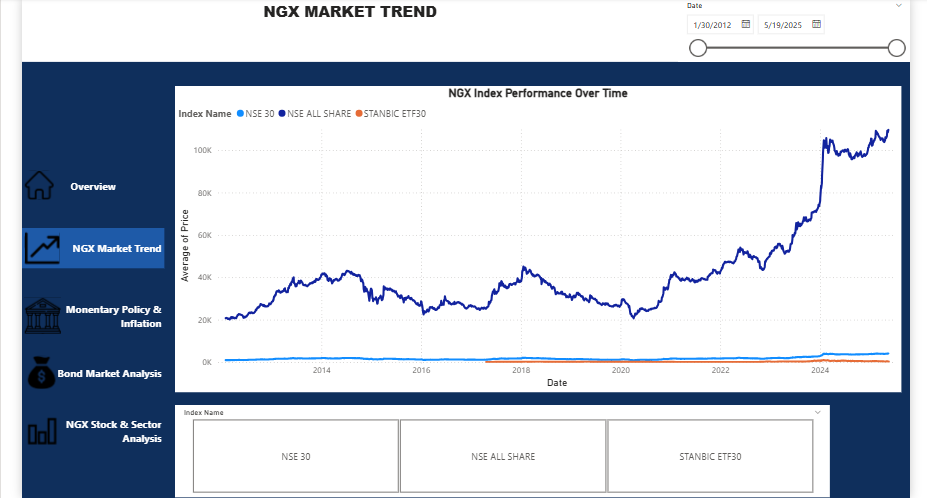

What the dashboard file says about the page in this screenshot:
{"tool":"powerbi","page":{"name":"NGX Market Trend","canvas":[1280,720],"ordinal":1},"visuals":[{"type":"lineChart","title":"NGX Index Performance Over Time","fields":{"Category":["Fact_NGXIndices.Date"],"Y":["Avg(Fact_NGXIndices.Price)"],"Series":["Fact_NGXIndices.Index Name"]},"box":[220.5,126.5,1045.9,440.9],"z":0},{"type":"slicer","fields":{"Values":["Fact_NGXIndices.Date"]},"box":[944.6,0,335.5,90.7],"z":1000},{"type":"slicer","fields":{"Values":["Fact_NGXIndices.Index Name"]},"box":[220.5,586.2,943.3,133.3],"z":2000},{"type":"textbox","box":[0,0,944.6,92.2],"z":3000},{"type":"actionButton","box":[0,244.4,205.1,49.6],"z":4000},{"type":"actionButton","box":[0,331.5,205.1,58.1],"z":5000},{"type":"actionButton","box":[0,427.2,205.1,59.8],"z":6000},{"type":"actionButton","box":[0,511,205.1,56.4],"z":7000},{"type":"actionButton","box":[0,594.7,205.1,58.1],"z":8000}]}

Visuals, with their boxes on the page's 1280x720 design canvas (x1, y1, x2, y2). These are canvas units, not pixel positions in the 927x498 screenshot, which may show the page scaled, cropped or inside an application window:
"NGX Index Performance Over Time" lineChart: select_region(220, 126, 1266, 567)
slicer - Fact_NGXIndices.Date: select_region(945, 0, 1280, 91)
slicer - Fact_NGXIndices.Index Name: select_region(220, 586, 1164, 720)
textbox: select_region(0, 0, 945, 92)
actionButton: select_region(0, 244, 205, 294)
actionButton: select_region(0, 332, 205, 390)
actionButton: select_region(0, 427, 205, 487)
actionButton: select_region(0, 511, 205, 567)
actionButton: select_region(0, 595, 205, 653)
